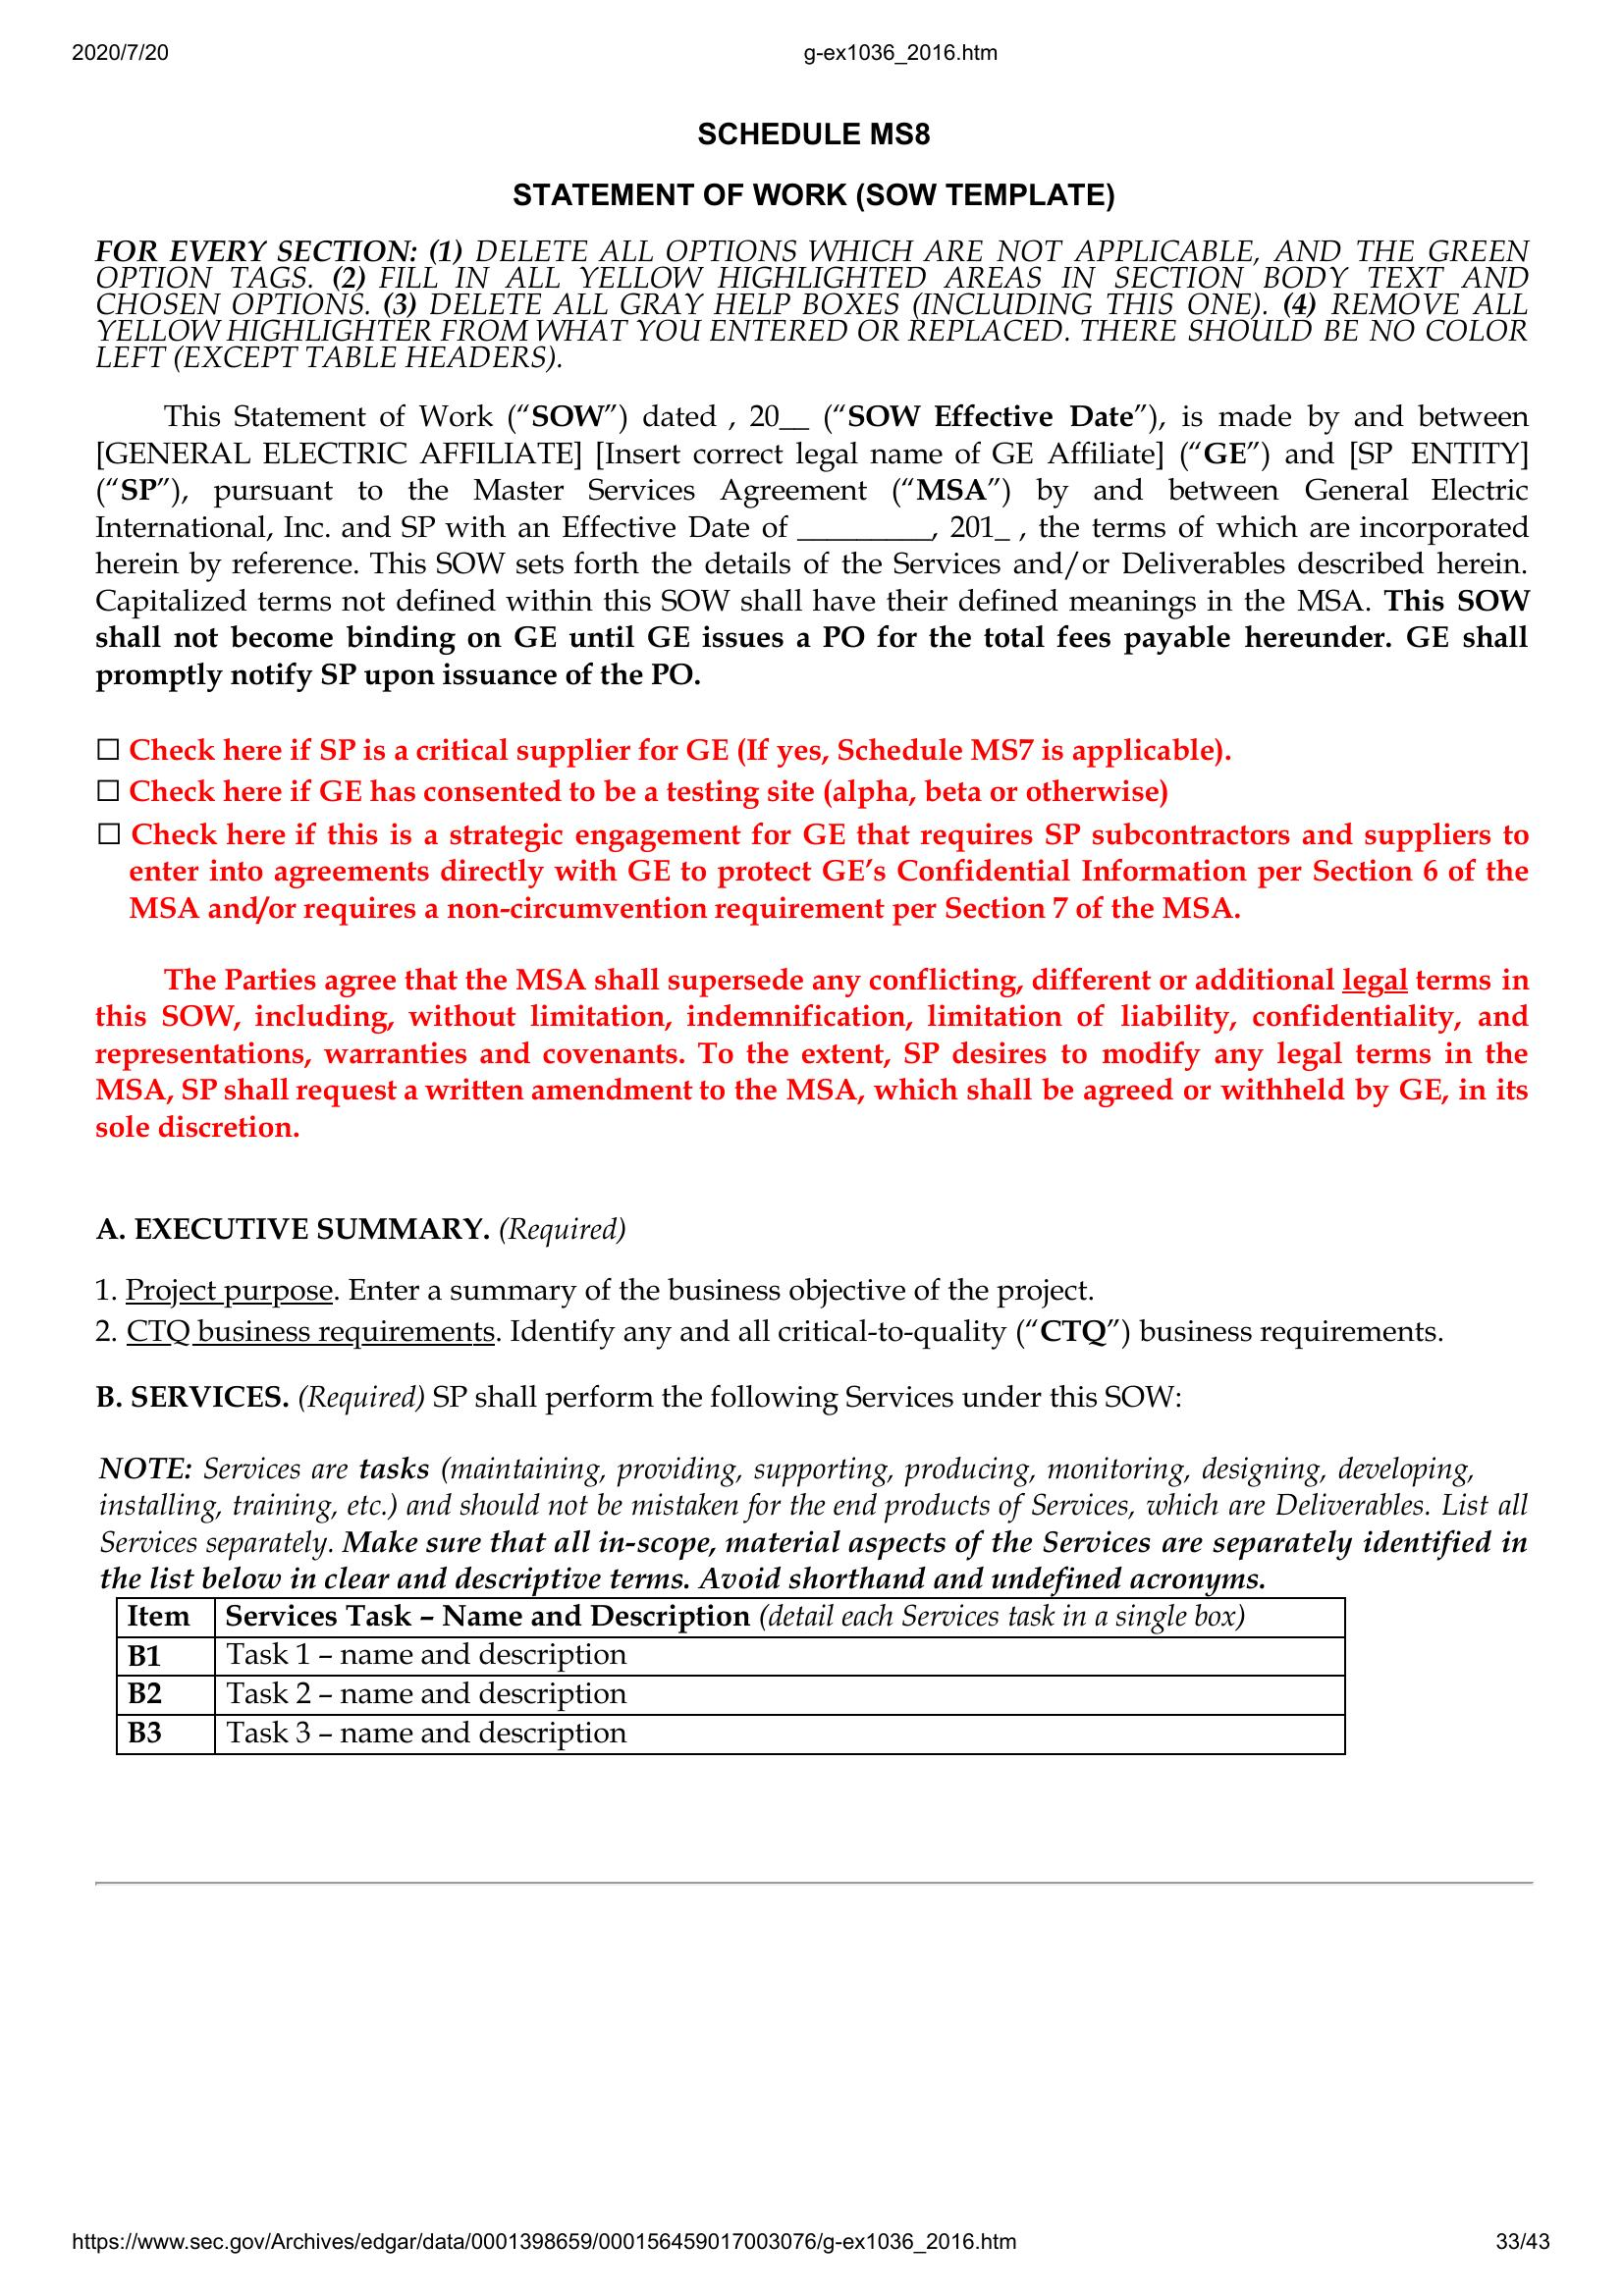table: (109, 1594, 1352, 1757)
